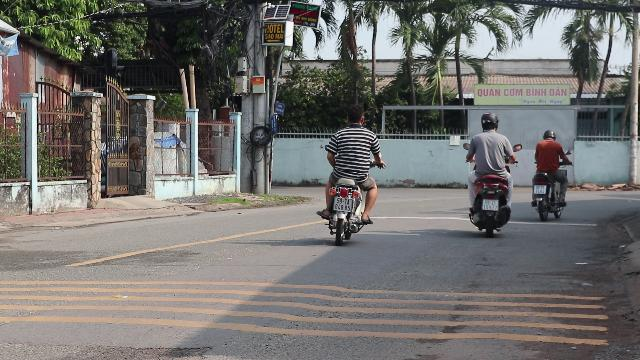helmet: (479, 112, 499, 132)
licenseplate: (333, 197, 351, 211), (482, 199, 498, 209)
motorcyclist: (316, 102, 382, 244), (464, 111, 514, 235)
nohelmet: (344, 104, 366, 126)
